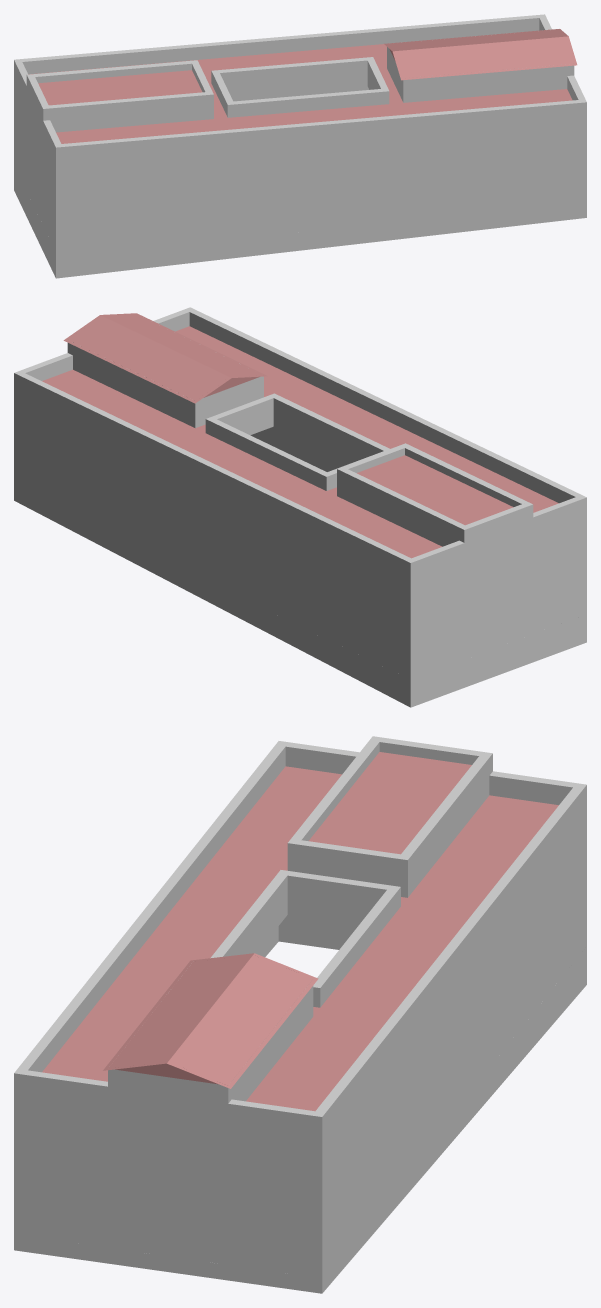
File: LOD_Block_2_13.glb
The picture shows the model from 3 angles, top to bottom: view 1: azimuth 30°, elevation 25°; view 2: azimuth 150°, elevation 25°; view 3: azimuth 270°, elevation 25°; orthographic projection. The views are drawn at different scales.
Parts seen in each view (by area): view 1: mesh_CityEngineMaterial_166; view 2: mesh_CityEngineMaterial_166; view 3: mesh_CityEngineMaterial_166.
Boxes of the visible parts, bbox=[...] form: mesh_CityEngineMaterial_166: bbox=[14, 14, 586, 278]; mesh_CityEngineMaterial_166: bbox=[14, 307, 586, 707]; mesh_CityEngineMaterial_166: bbox=[14, 736, 586, 1293].
Bounding box in the file's own units: 40.97 × 11.88 × 26.36.
